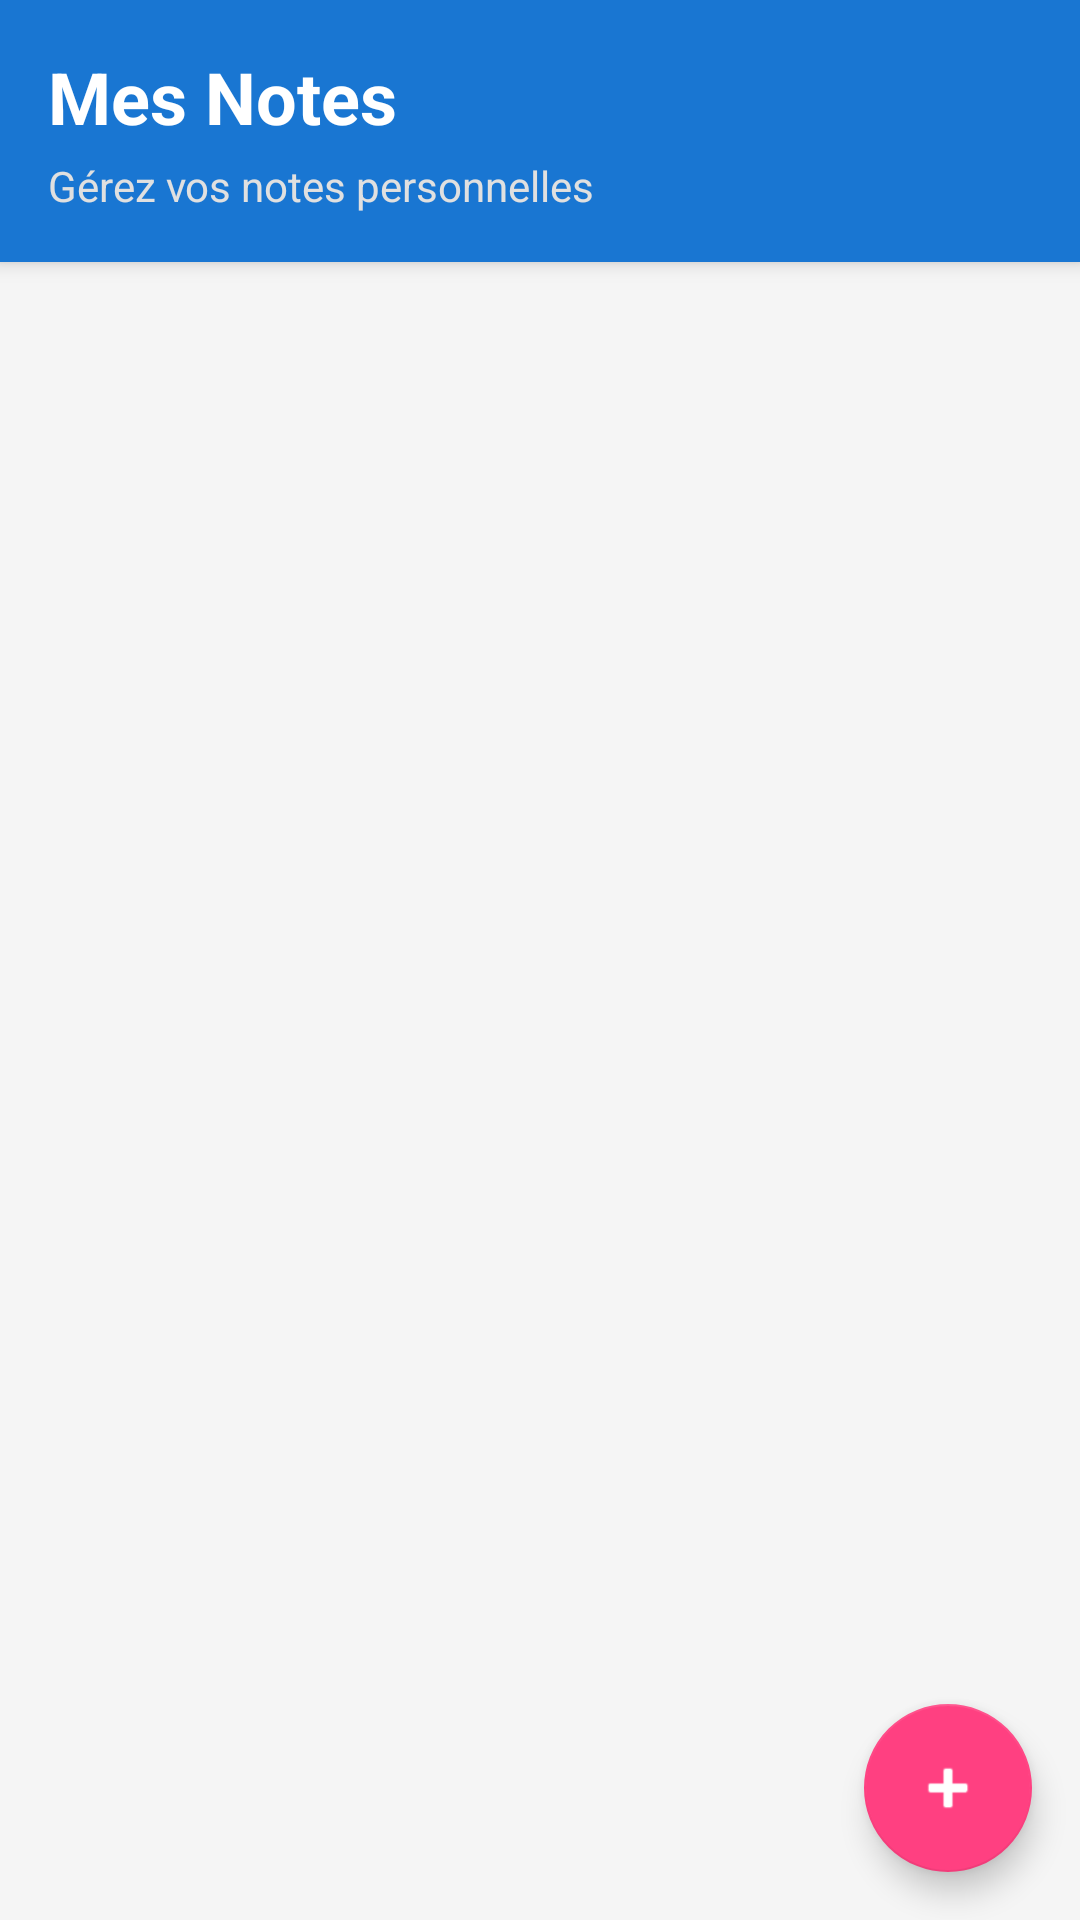

Icon bounding boxes for this 1080px×1920px phone screenshot, format [x1, y1, x2, y2]:
Ajouter une note: [864, 1704, 1032, 1872]
